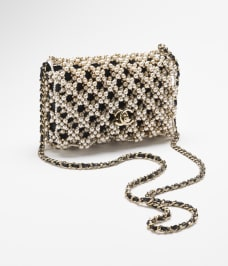channel: (19, 38, 205, 157), (139, 180, 188, 238), (101, 103, 147, 128), (131, 146, 180, 168)
